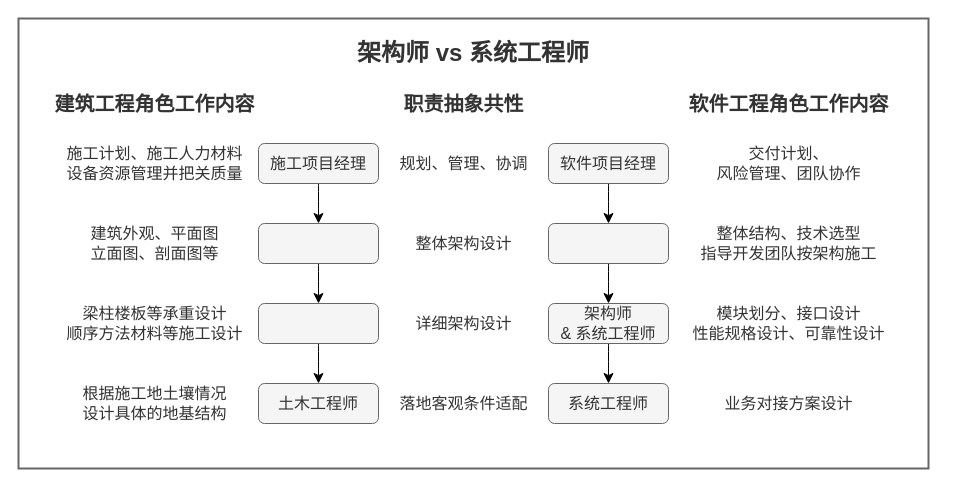
The diagram is 956 pixels wide and 486 high, and some of its shapes have lost their labels. Here are the shapes that lost their labels. From the top down, the centre of each, then its label:
the point at 318,243: 建筑师
the point at 608,243: 架构师
the point at 318,323: 结构工程师
